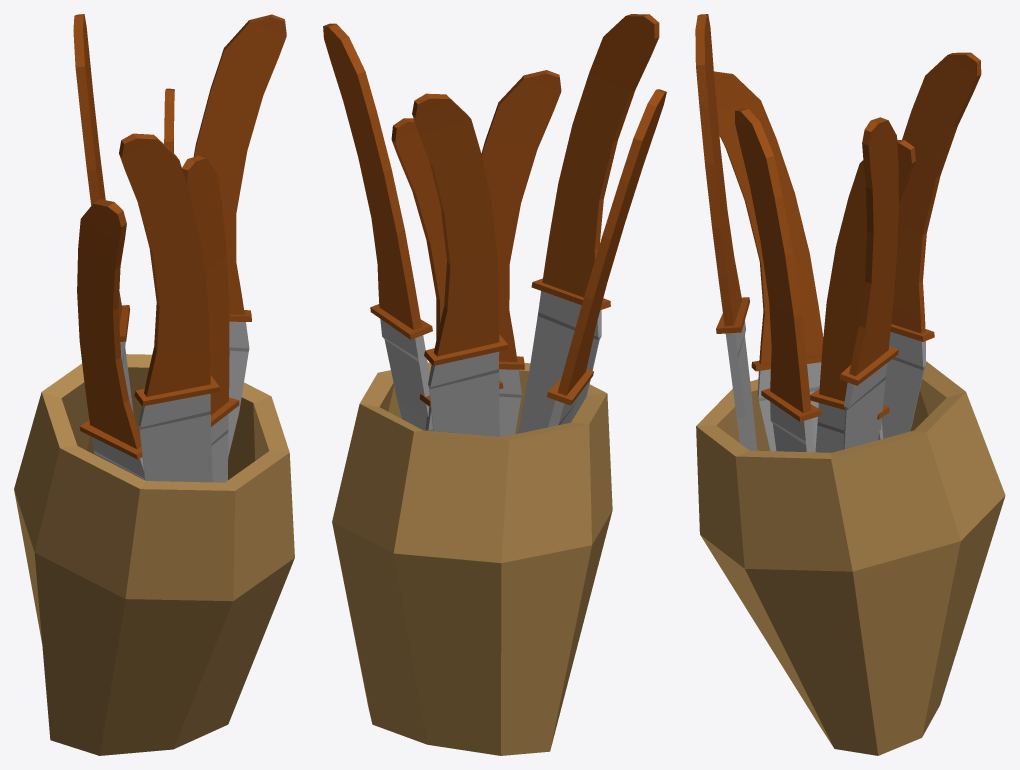
File: ThrowingDaggerQuiver.fbx
3 views of the same model, side by side, from view 1: azimuth 30°, elevation 25°; view 2: azimuth 150°, elevation 25°; view 3: azimuth 270°, elevation 25° (orthographic). The views are drawn at different scales.
Parts seen in each view (by area): view 1: ThrowingDaggerQuiver.001; view 2: ThrowingDaggerQuiver.001; view 3: ThrowingDaggerQuiver.001.
Boxes of the visible parts, x1,y1,x2,y2 form: ThrowingDaggerQuiver.001: [14, 14, 294, 755]; ThrowingDaggerQuiver.001: [323, 14, 666, 755]; ThrowingDaggerQuiver.001: [695, 14, 1005, 755].
Size of the model in its own units: 64.27 by 159 by 67.63.
